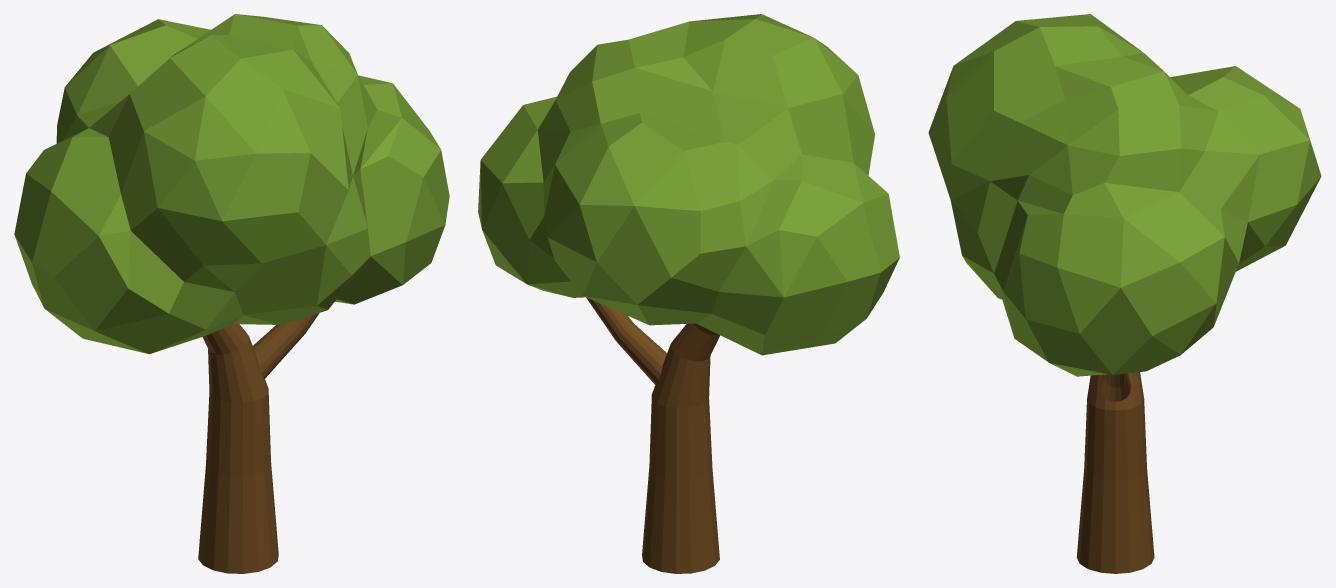
The model's file is tree.fbx.
The picture shows the model from 3 angles, left to right: view 1: azimuth 30°, elevation 25°; view 2: azimuth 150°, elevation 25°; view 3: azimuth 270°, elevation 25°; orthographic projection. The views are drawn at different scales.
Visible parts, largest first — view 1: tree; view 2: tree; view 3: tree.
Part boxes in pixels (x1,y1,x2,y2): tree: (14,14,449,573); tree: (478,14,899,573); tree: (928,14,1321,573).
Size of the model in its own units: 1127 by 1446 by 1002.
